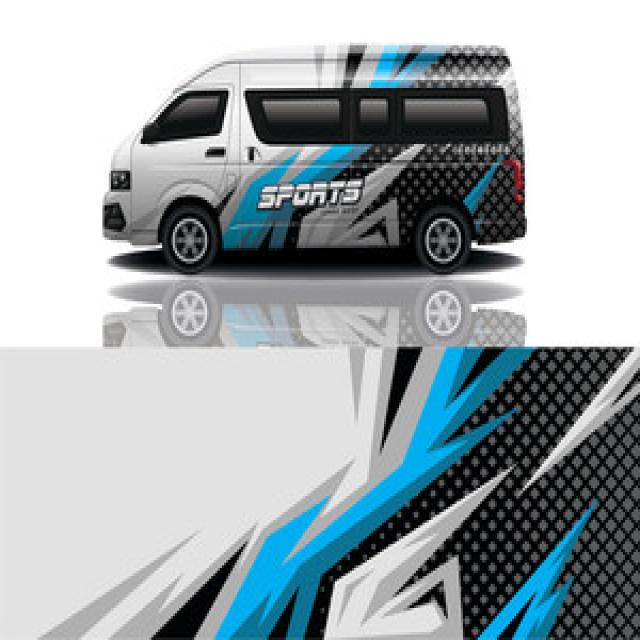van: (102, 45, 525, 624)
